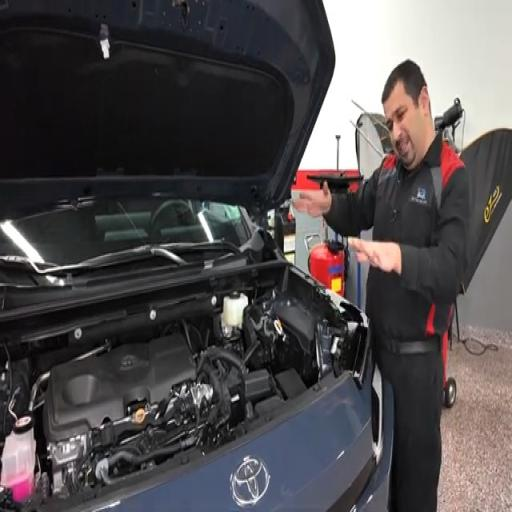bumper: (91, 377, 393, 511), (355, 382, 394, 511)
emblem: (231, 457, 270, 507)
hood: (0, 0, 335, 217)
windshield: (0, 198, 250, 265)
